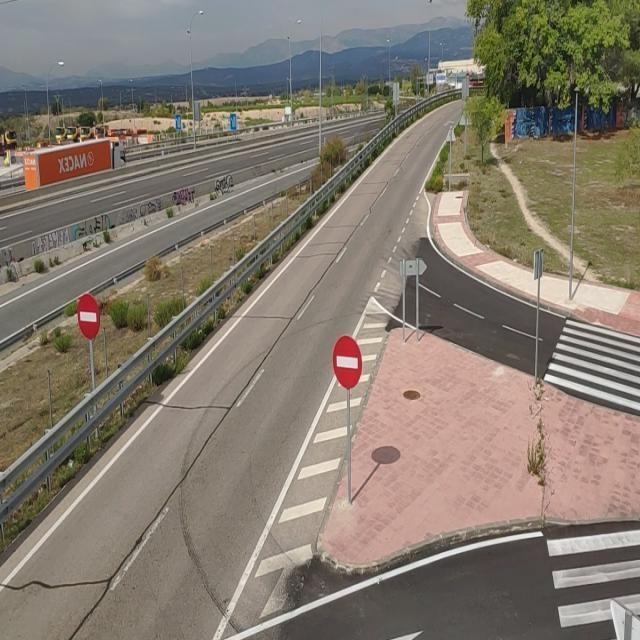Truck: (22, 136, 128, 192), (0, 126, 19, 155)
